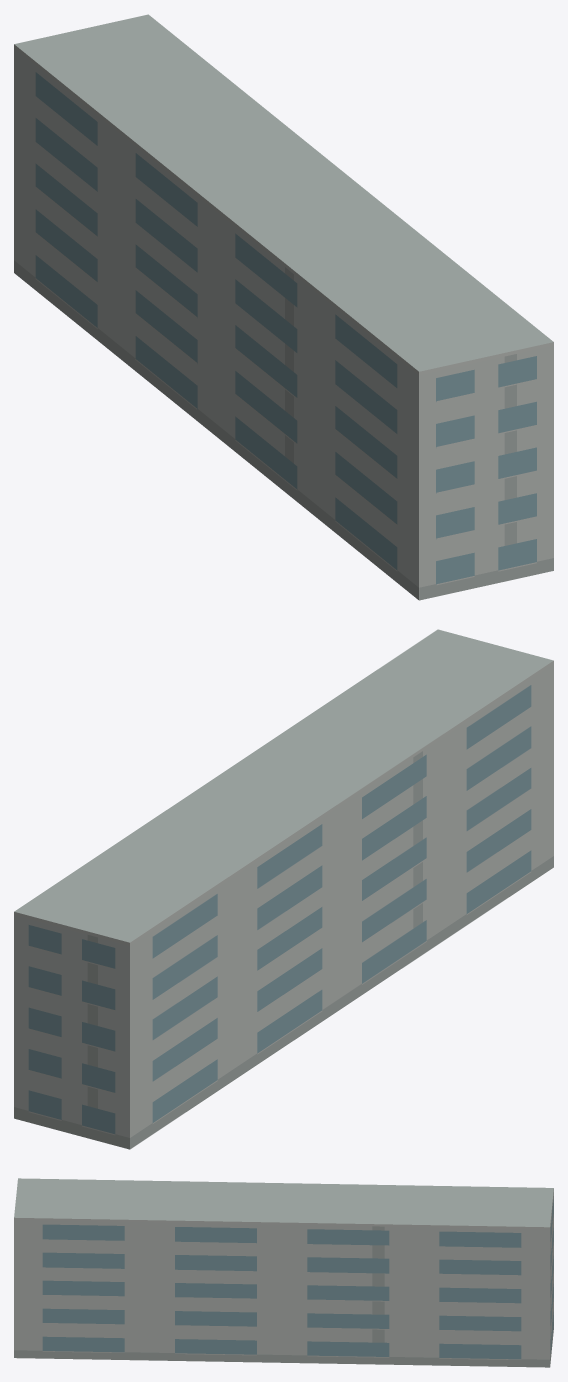
File: residential-cfb0fbc5-8b23-4228-8af4-69659925099c.glb
3 renders of one model, top to bottom at view 1: azimuth 30°, elevation 25°; view 2: azimuth 150°, elevation 25°; view 3: azimuth 270°, elevation 25°, orthographic. The views are drawn at different scales.
Parts seen in each view (by area): view 1: residential-cfb0fbc5-8b23-4228-8af4-69659925099c.tmp; view 2: residential-cfb0fbc5-8b23-4228-8af4-69659925099c.tmp; view 3: residential-cfb0fbc5-8b23-4228-8af4-69659925099c.tmp.
Part boxes in pixels (x1,y1,x2,y2): residential-cfb0fbc5-8b23-4228-8af4-69659925099c.tmp: [14, 14, 553, 600]; residential-cfb0fbc5-8b23-4228-8af4-69659925099c.tmp: [14, 629, 553, 1149]; residential-cfb0fbc5-8b23-4228-8af4-69659925099c.tmp: [14, 1178, 553, 1367].
Size of the model in its own units: 11.4 by 15.25 by 53.2.
